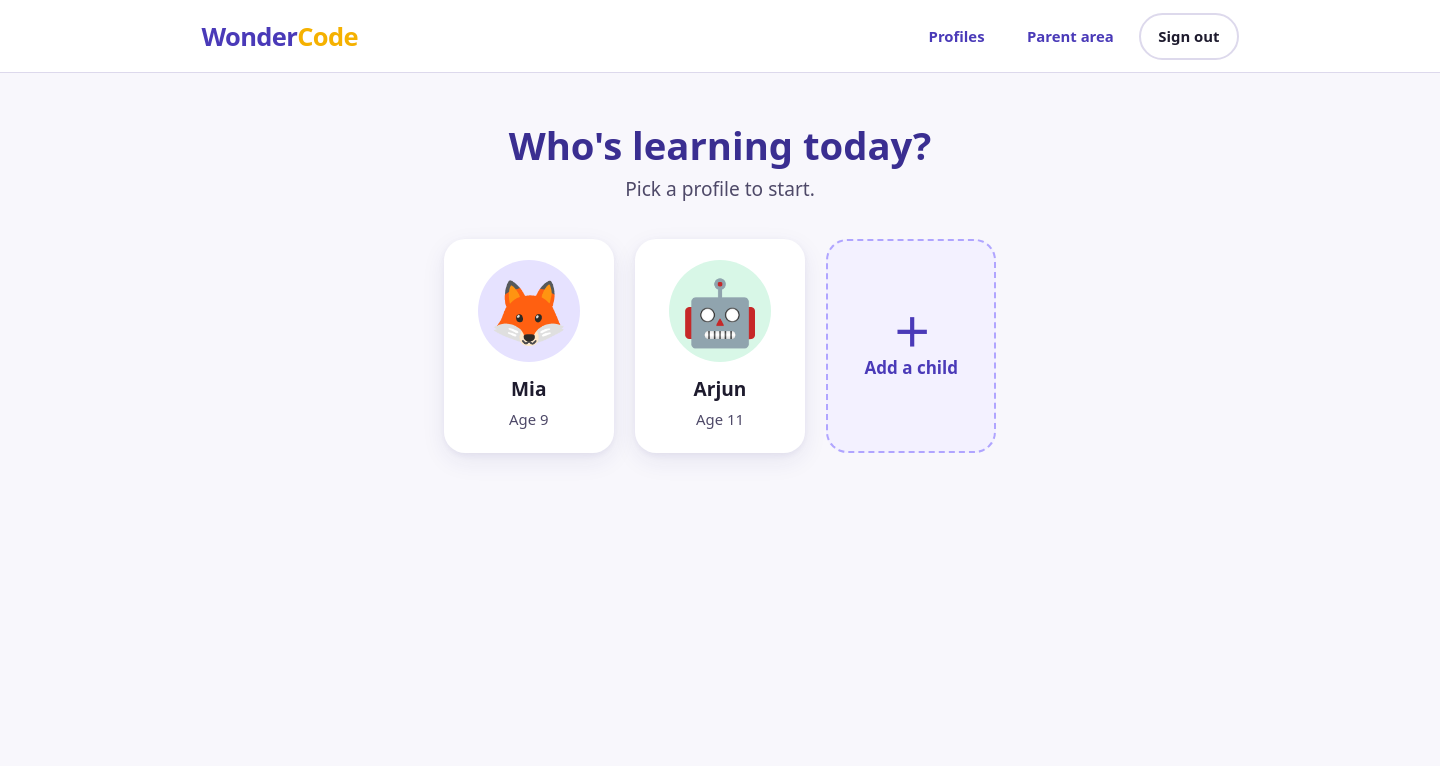
Test: profile picker › lists the parent’s children and opens the dashboard for the chosen one
The width and height of the screenshot is (1440, 766).
Click the button "🦊 Mia Age 9" at (529,346), box [444, 239, 614, 453]
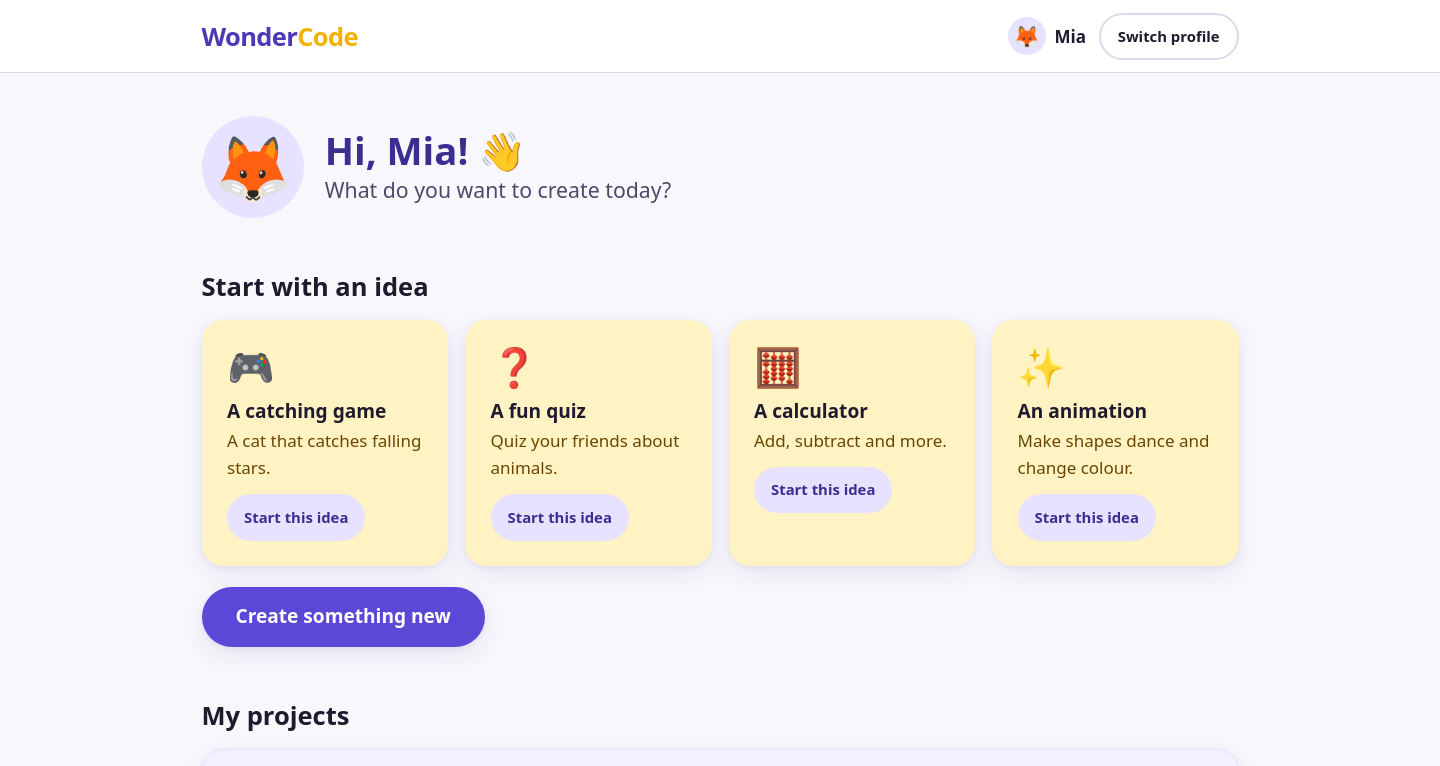
Expected: the heading "Hi, Mia! 👋" is shown, [325, 124, 526, 176]
